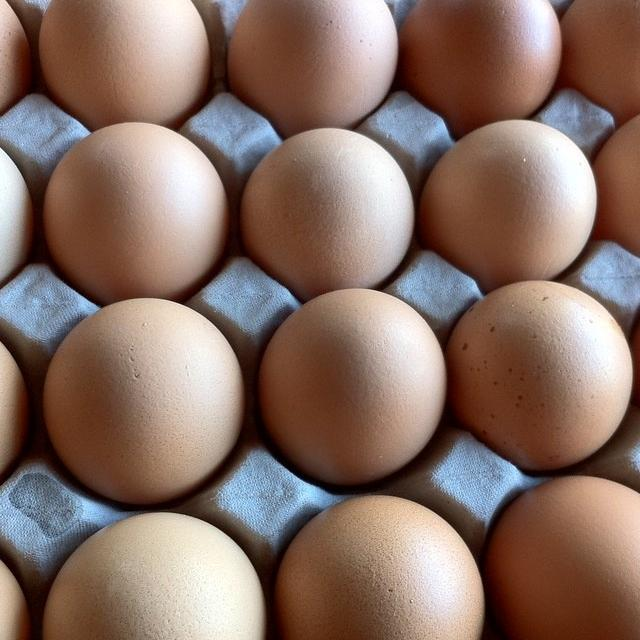egg: (42, 296, 245, 504), (257, 286, 447, 484), (445, 278, 634, 472), (42, 120, 228, 304), (418, 118, 598, 292), (274, 492, 485, 640), (239, 126, 414, 300), (41, 509, 266, 640), (483, 473, 640, 640), (226, 0, 398, 136), (38, 0, 211, 130), (399, 0, 562, 136), (560, 0, 640, 123), (592, 102, 640, 285)
